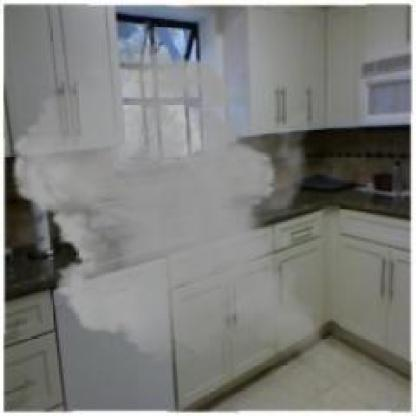Smoke: (2, 18, 369, 375)
